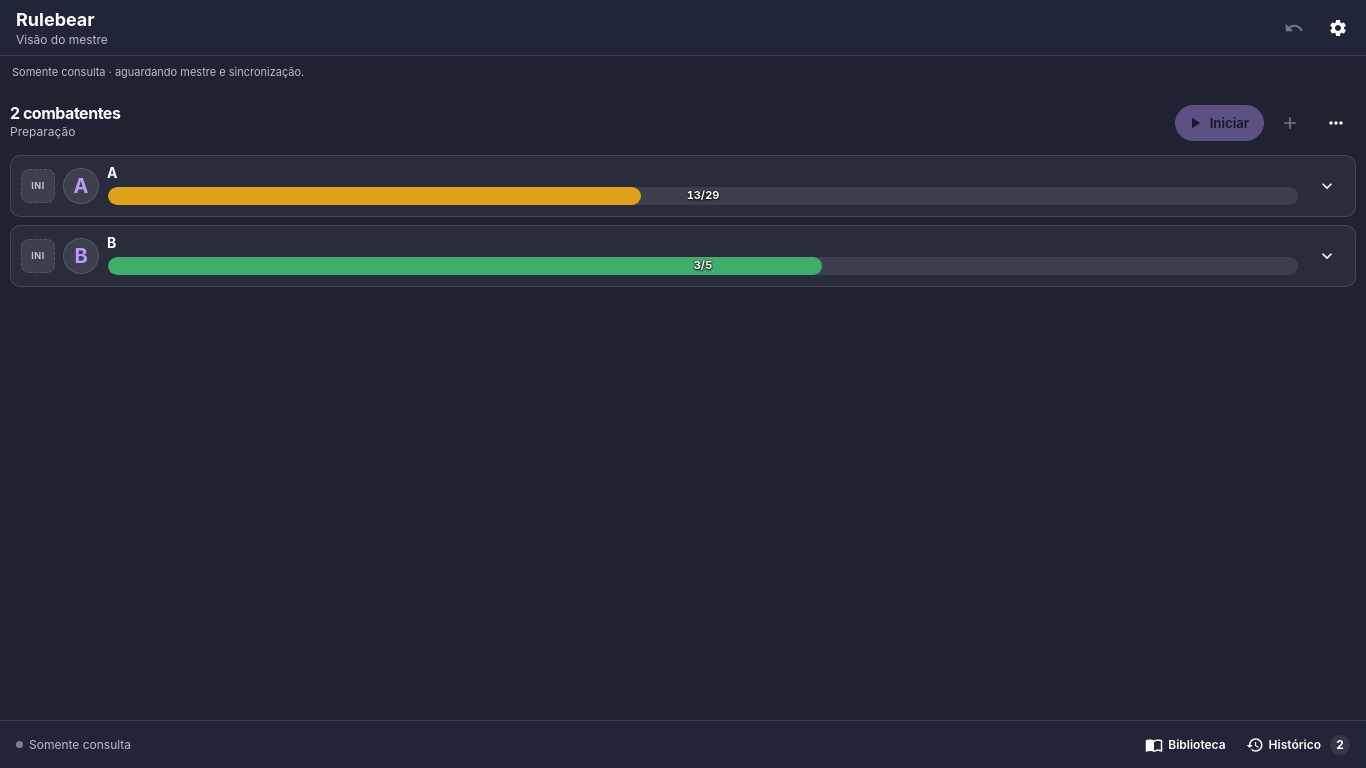
Test: painel de jogadores › prévia do mestre usa o jogador escolhido e não permite ações
Expected: the heading "2 combatentes" is shown, [10, 103, 120, 123]
Click the button named "Preferências visuais": (1338, 28) [1318, 8, 1358, 48]
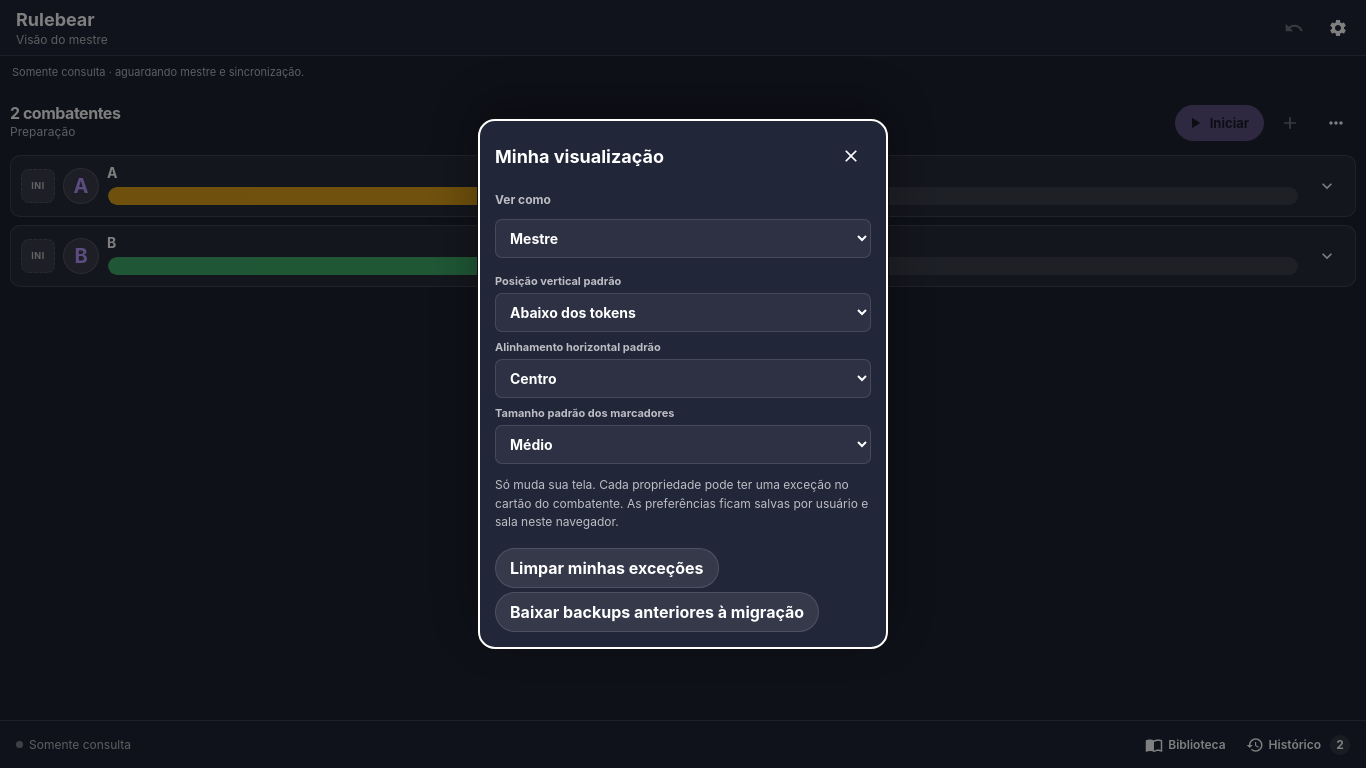
Select "p" in the dropdown labelled "Ver como": (683, 239) [495, 219, 871, 258]
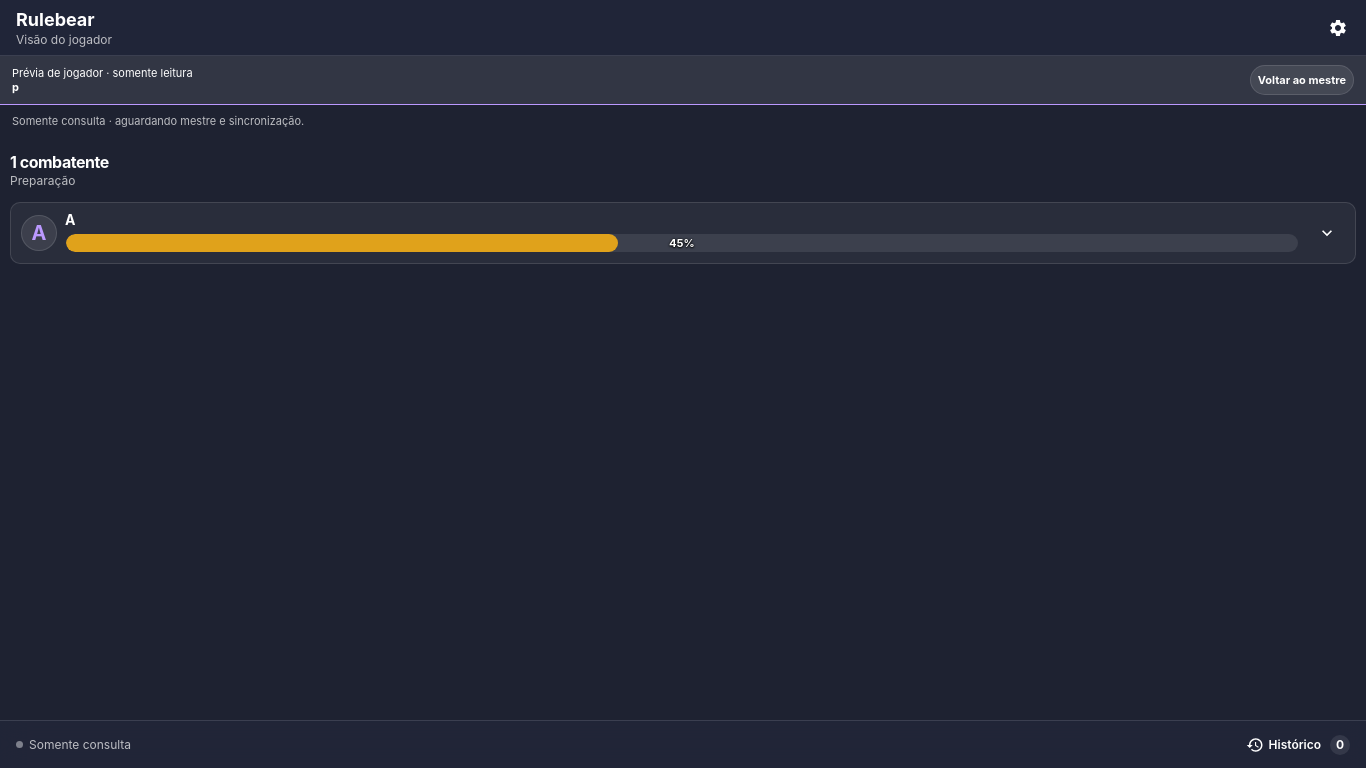
Now the heading "1 combatente" is shown, box [10, 152, 109, 172]
Now the text "Prévia de jogador · somente leitura" is shown, box [12, 66, 193, 80]
Now the label "marcadores" is gone
